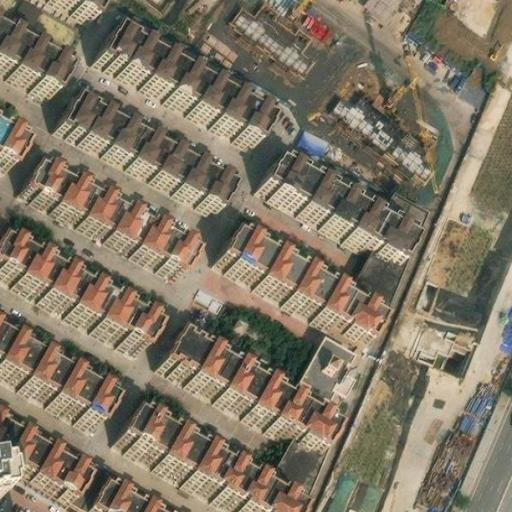building: (161, 329, 335, 453), (53, 95, 229, 214), (96, 24, 272, 142), (20, 164, 193, 277), (118, 409, 302, 512), (0, 235, 157, 351), (218, 232, 380, 343), (260, 158, 413, 263), (0, 332, 112, 424), (333, 82, 434, 175), (0, 426, 86, 504), (0, 38, 73, 108), (264, 437, 326, 512), (342, 247, 403, 317), (297, 331, 355, 397), (87, 483, 157, 512), (290, 127, 328, 159), (71, 478, 102, 512), (0, 122, 22, 167)
